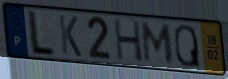2: (88, 15, 114, 63)
H: (112, 17, 145, 63)
K: (57, 13, 84, 59)
L: (28, 9, 57, 59)
M: (141, 21, 174, 65)
Q: (173, 23, 203, 69)
